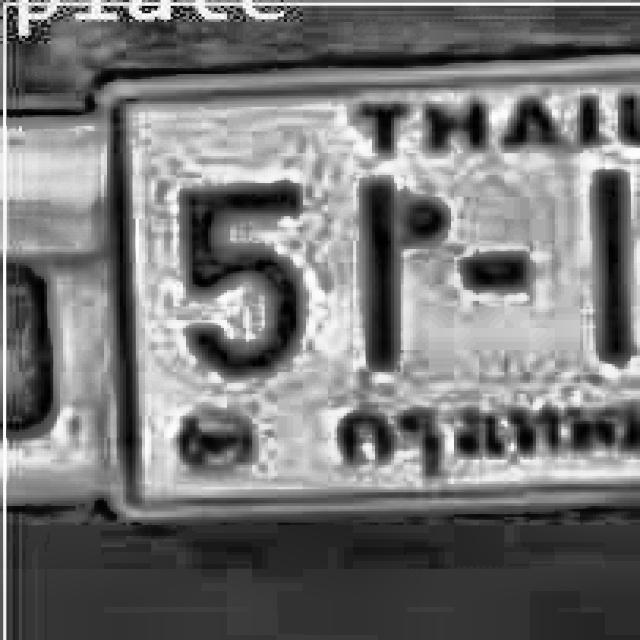license-plate: (85, 44, 640, 514)
